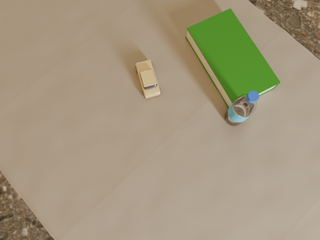book: (186, 8, 280, 108)
bottle: (225, 91, 259, 126)
toy_car: (136, 60, 161, 98)
